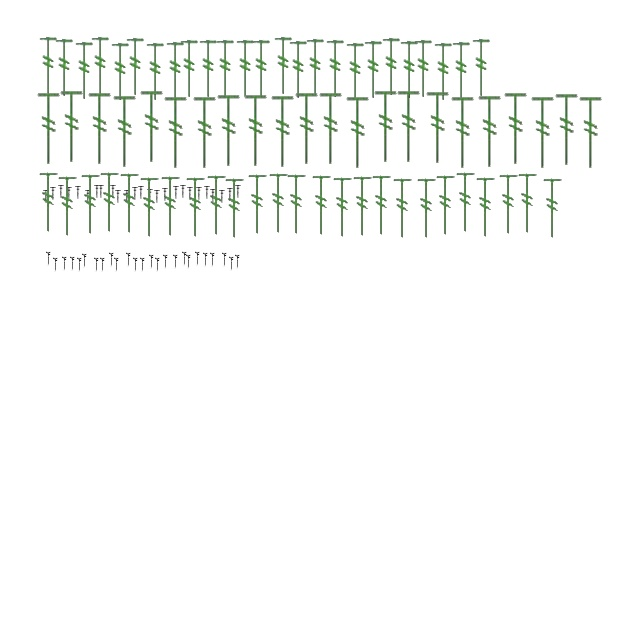double treble: (62, 256, 68, 272), (70, 256, 76, 272), (126, 252, 132, 268), (186, 254, 192, 270), (210, 252, 216, 268), (222, 252, 228, 268), (43, 190, 49, 204), (75, 186, 81, 200), (85, 190, 91, 204), (115, 190, 121, 204), (124, 190, 130, 204), (138, 186, 144, 200), (154, 190, 160, 204), (162, 188, 168, 202), (173, 186, 179, 200), (204, 186, 210, 200), (219, 190, 225, 204), (227, 188, 233, 202), (46, 252, 52, 266), (82, 254, 88, 268), (94, 258, 100, 272), (100, 258, 106, 272), (114, 258, 120, 272), (140, 258, 146, 272), (182, 252, 188, 266), (50, 188, 56, 200), (58, 186, 64, 198), (66, 188, 72, 200), (94, 186, 100, 198), (98, 186, 104, 198), (110, 186, 116, 198), (132, 188, 138, 200), (147, 190, 153, 202), (180, 186, 186, 198), (187, 188, 193, 200), (196, 188, 202, 200), (210, 190, 216, 202), (235, 186, 241, 198), (110, 252, 114, 268), (150, 254, 154, 270), (164, 254, 168, 270), (174, 254, 178, 270), (204, 252, 208, 268), (230, 256, 234, 272), (236, 254, 240, 270), (54, 258, 58, 272), (78, 258, 82, 272), (134, 258, 138, 272), (156, 258, 160, 272), (196, 252, 200, 266)
fan: (111, 94, 139, 170), (269, 94, 297, 170), (424, 90, 452, 166), (476, 94, 504, 170), (553, 92, 581, 168), (35, 92, 63, 166), (58, 90, 86, 164), (86, 92, 114, 166), (138, 90, 166, 164), (162, 96, 190, 170), (191, 96, 219, 170), (215, 94, 243, 168), (242, 94, 270, 168), (293, 92, 321, 166), (317, 92, 345, 166), (344, 96, 372, 170), (372, 90, 400, 164), (395, 90, 423, 164), (449, 96, 477, 170), (502, 92, 530, 166), (529, 96, 557, 170), (577, 96, 605, 170), (56, 174, 80, 240), (98, 170, 122, 236), (246, 172, 270, 238), (454, 170, 478, 236), (118, 172, 142, 236), (138, 176, 162, 240), (184, 176, 208, 240), (310, 174, 334, 238), (370, 174, 394, 238), (434, 174, 458, 238), (474, 176, 498, 240), (516, 172, 540, 236), (38, 170, 60, 236), (80, 172, 102, 238), (160, 174, 182, 240), (224, 176, 246, 242), (286, 172, 308, 238), (352, 174, 374, 240), (392, 176, 414, 242), (416, 176, 438, 242), (498, 172, 520, 238), (542, 176, 564, 242), (206, 174, 228, 238), (268, 172, 290, 236), (332, 176, 354, 240), (38, 36, 58, 96), (54, 38, 74, 98), (74, 41, 94, 101), (90, 36, 110, 96), (110, 42, 130, 102), (125, 37, 145, 97), (145, 42, 165, 102), (165, 41, 185, 101), (179, 39, 199, 99), (198, 39, 218, 99), (215, 39, 235, 99), (235, 39, 255, 99), (251, 39, 271, 99), (273, 36, 293, 96), (288, 40, 308, 100), (305, 38, 325, 98), (325, 39, 345, 99), (345, 42, 365, 102), (363, 40, 383, 100), (381, 37, 401, 97), (399, 40, 419, 100), (413, 39, 433, 99), (433, 42, 453, 102), (451, 41, 471, 101), (471, 38, 491, 98)
